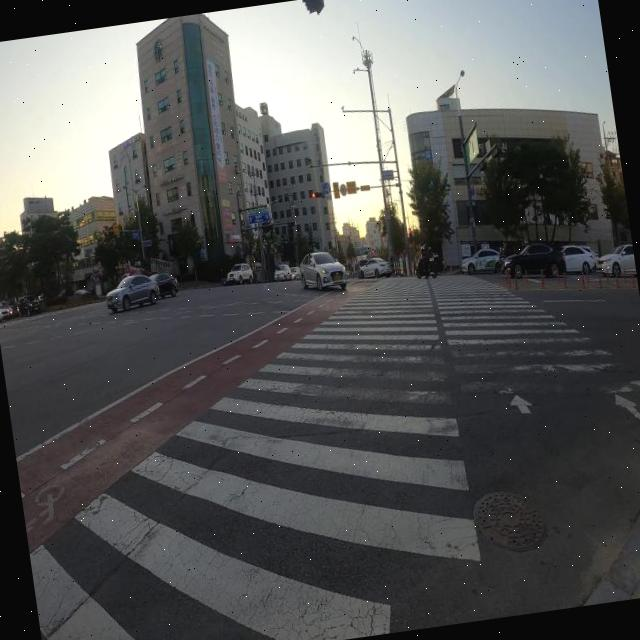crosswalk: (30, 273, 640, 640)
